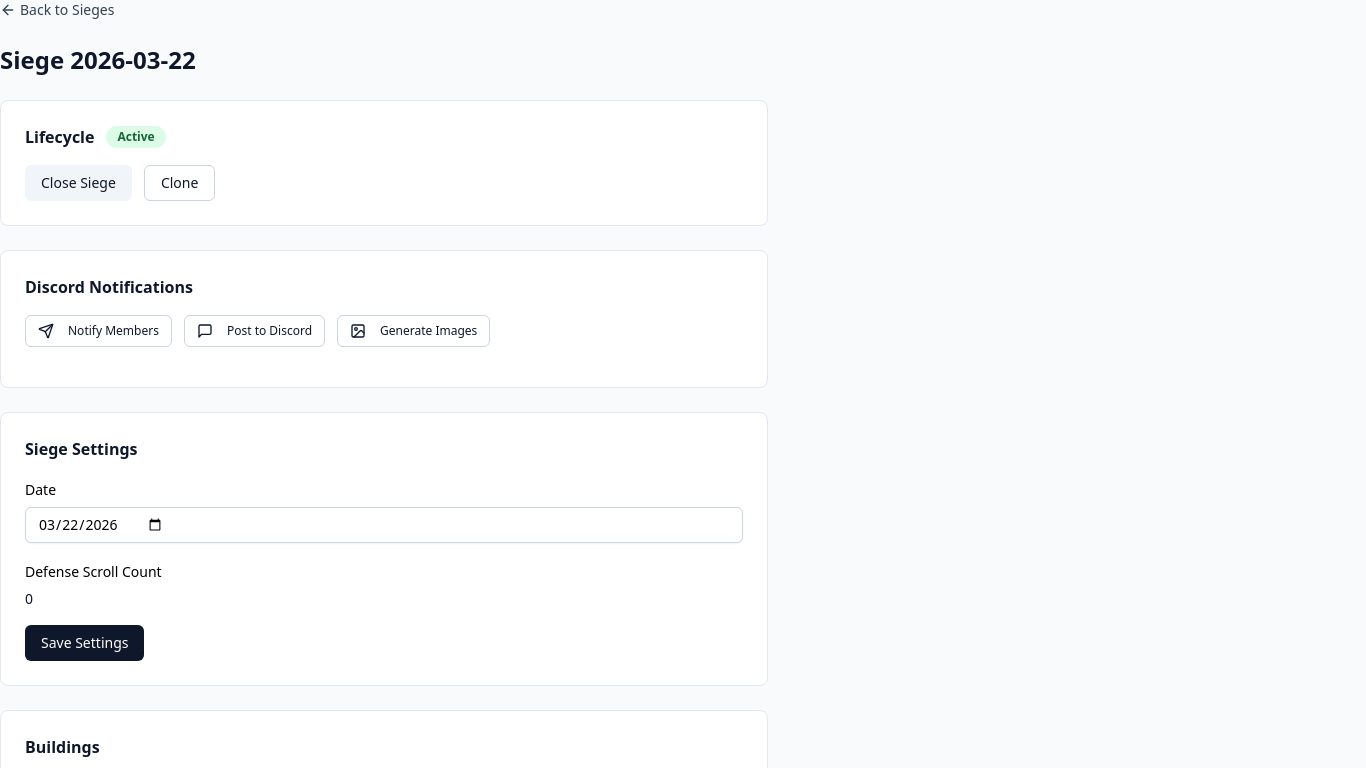
Test: SiegeSettingsPage — Notify Members button › re-enables Notify Members button after batch completes
Click the button "Notify Members".
click(98, 331)  # box top-left (25, 315), bottom-right (172, 347)
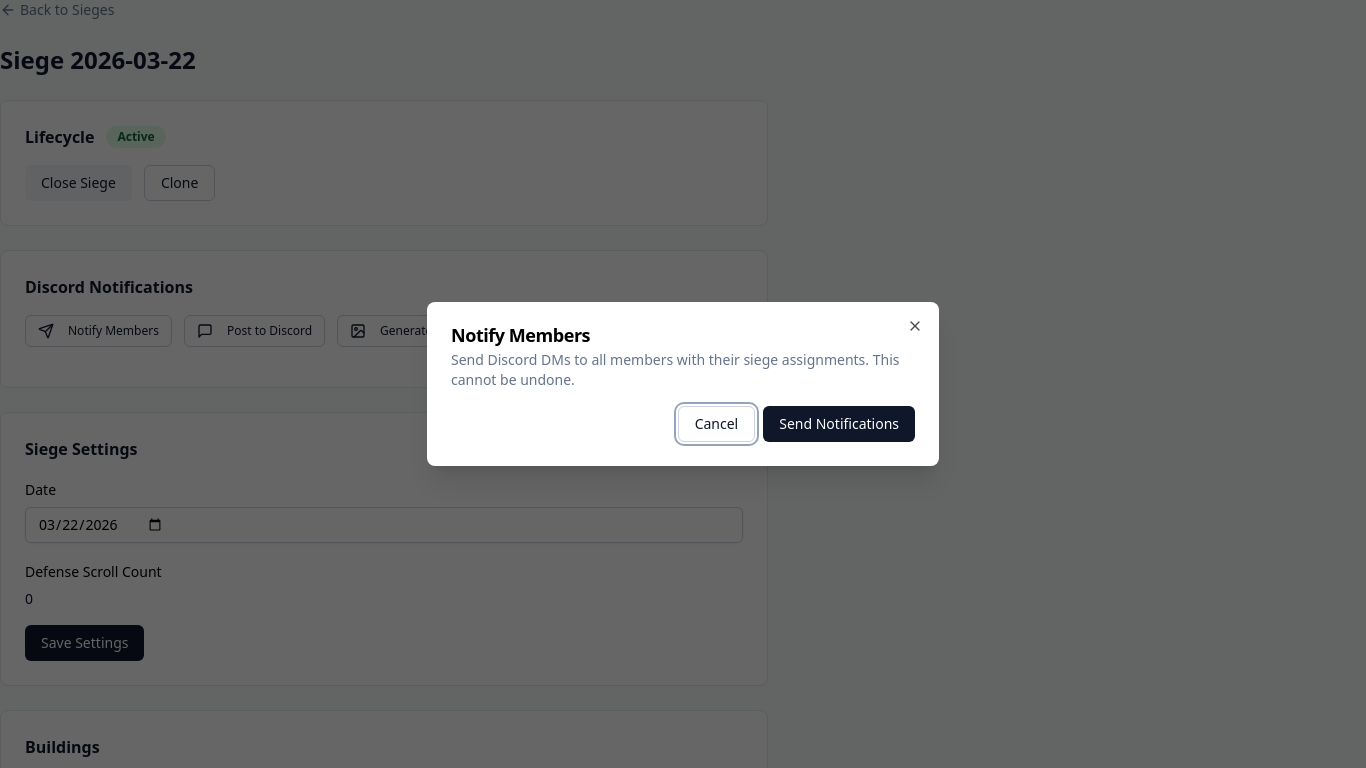
Click the button "Send Notifications".
click(839, 424)  # box top-left (763, 406), bottom-right (915, 442)
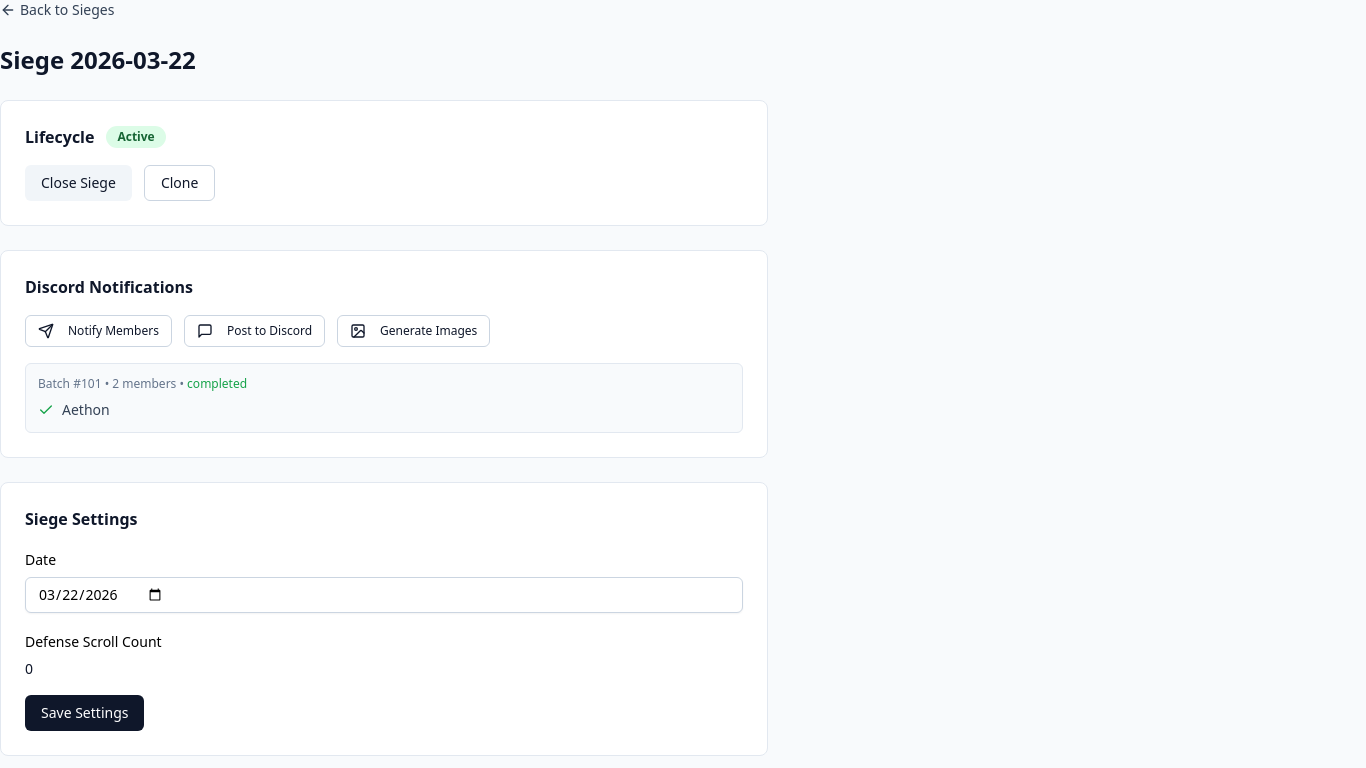
Check: the button "Notify Members" is enabled, box top-left (25, 315), bottom-right (172, 347)
Check: the text "completed" is shown, box top-left (187, 375), bottom-right (247, 392)
